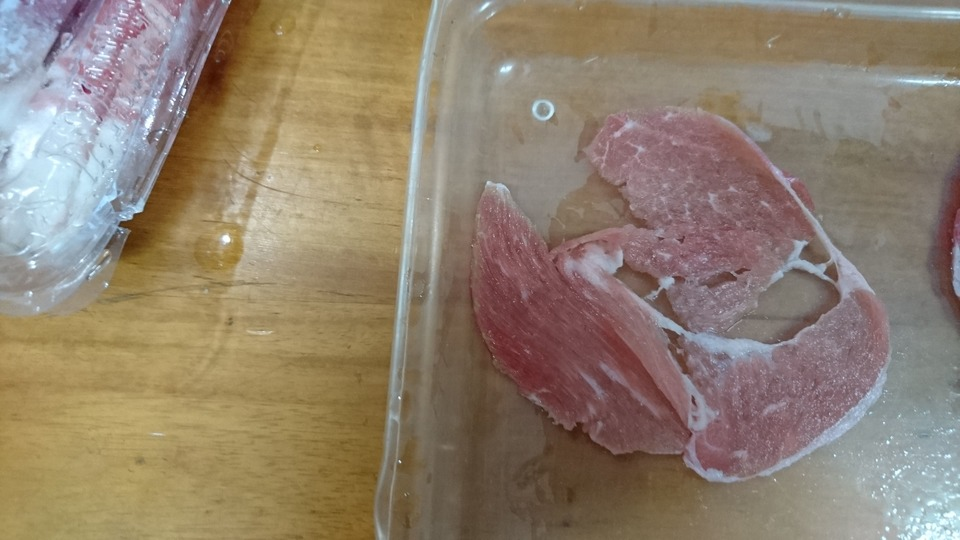restructured meat: (473, 116, 904, 478)
